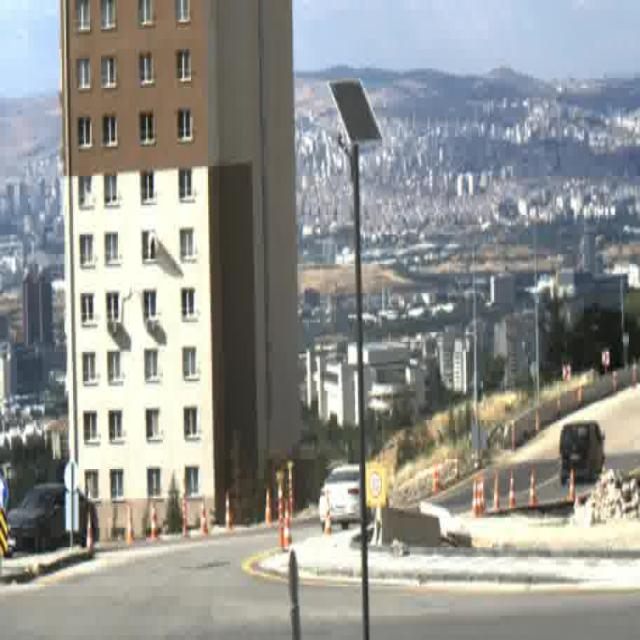Car: (2, 482, 100, 551), (320, 460, 382, 529), (560, 425, 604, 486)
